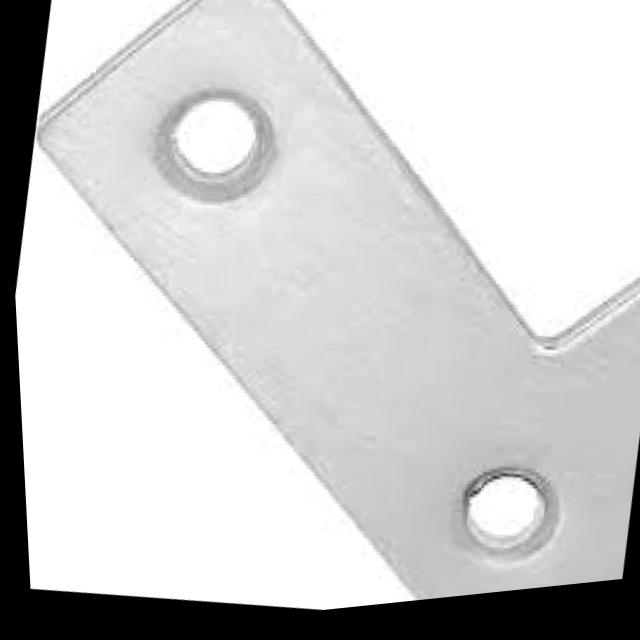holes: (145, 87, 284, 218), (450, 474, 556, 576)
